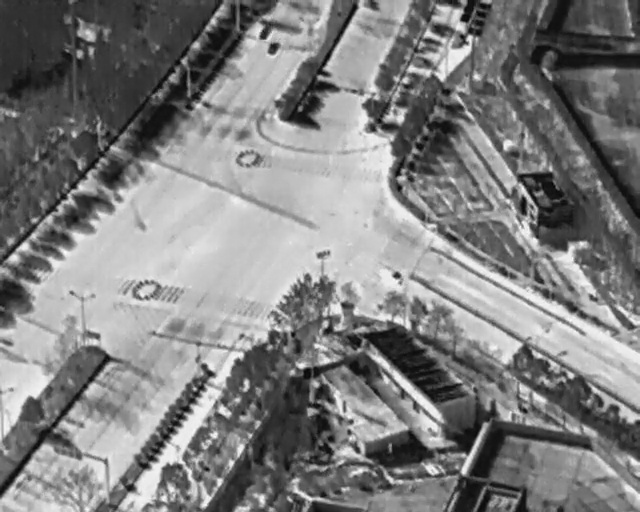Car: (381, 265, 405, 285), (266, 39, 281, 57), (256, 25, 270, 41)
